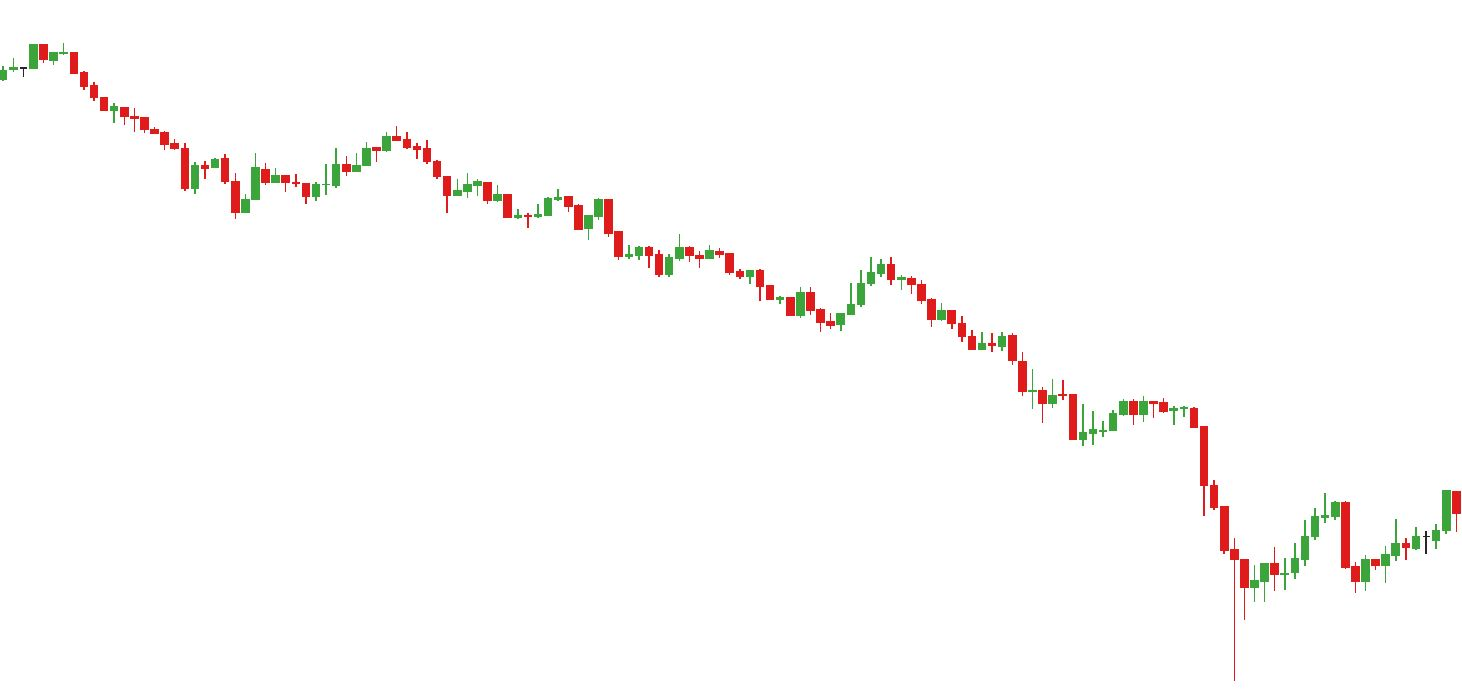buy: (174, 159, 262, 221)
